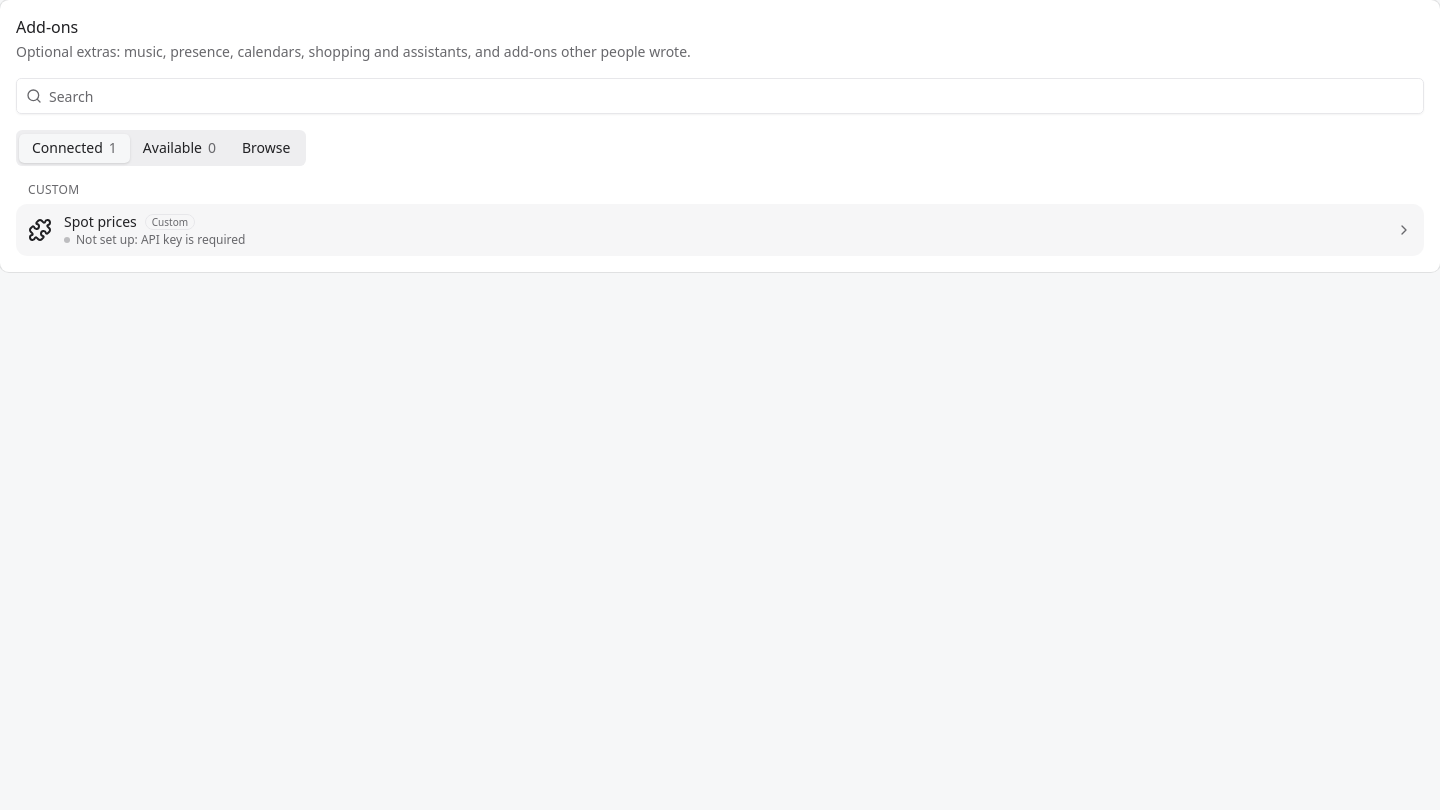
Test case: the generated setup panel › says what is missing before it starts
Click the button with aria-label "Configure Spot prices". click: point(100, 222)
box: left=16, top=204, right=1424, bottom=256
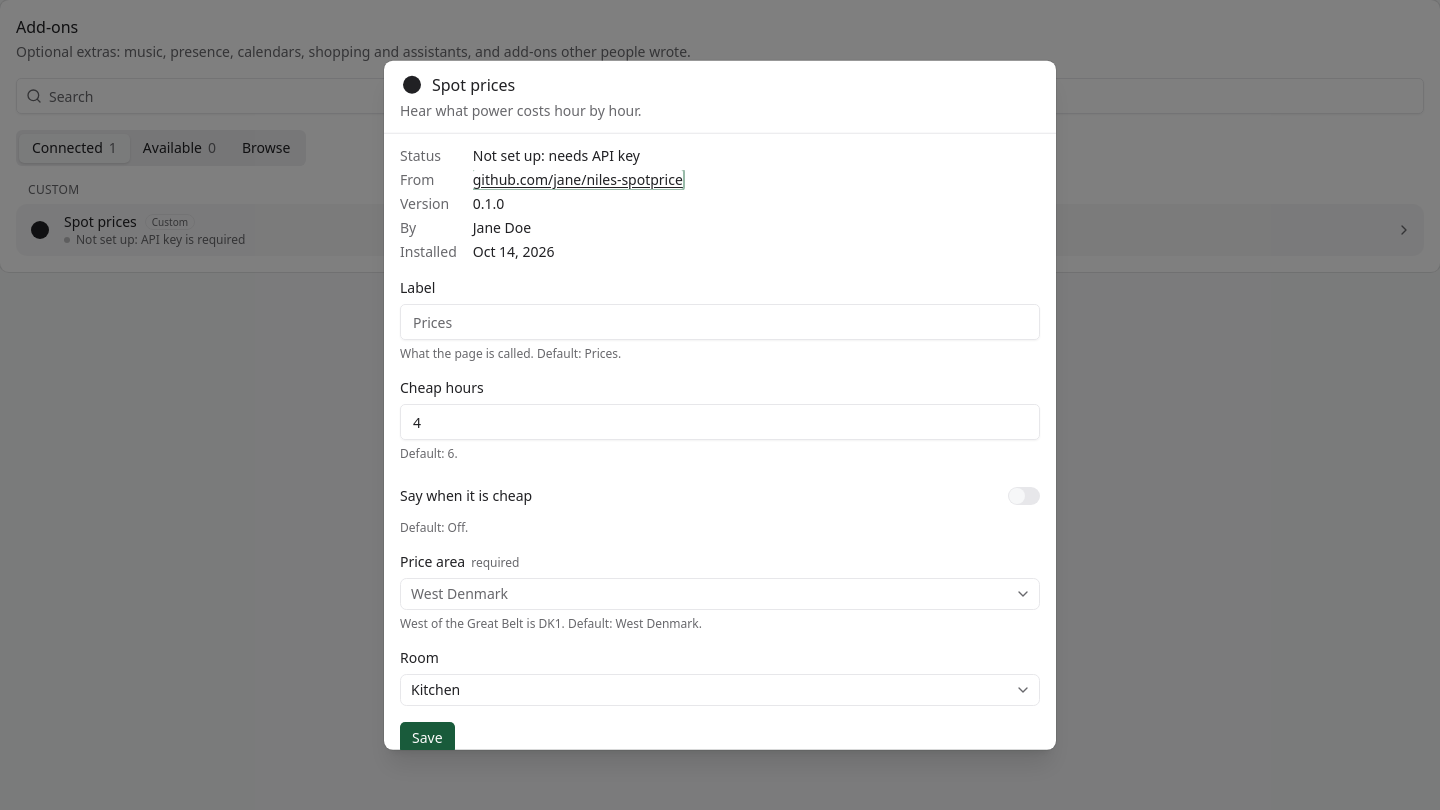
Expected: the text "Not set up: needs API key" is shown, left=473, top=146, right=640, bottom=165
